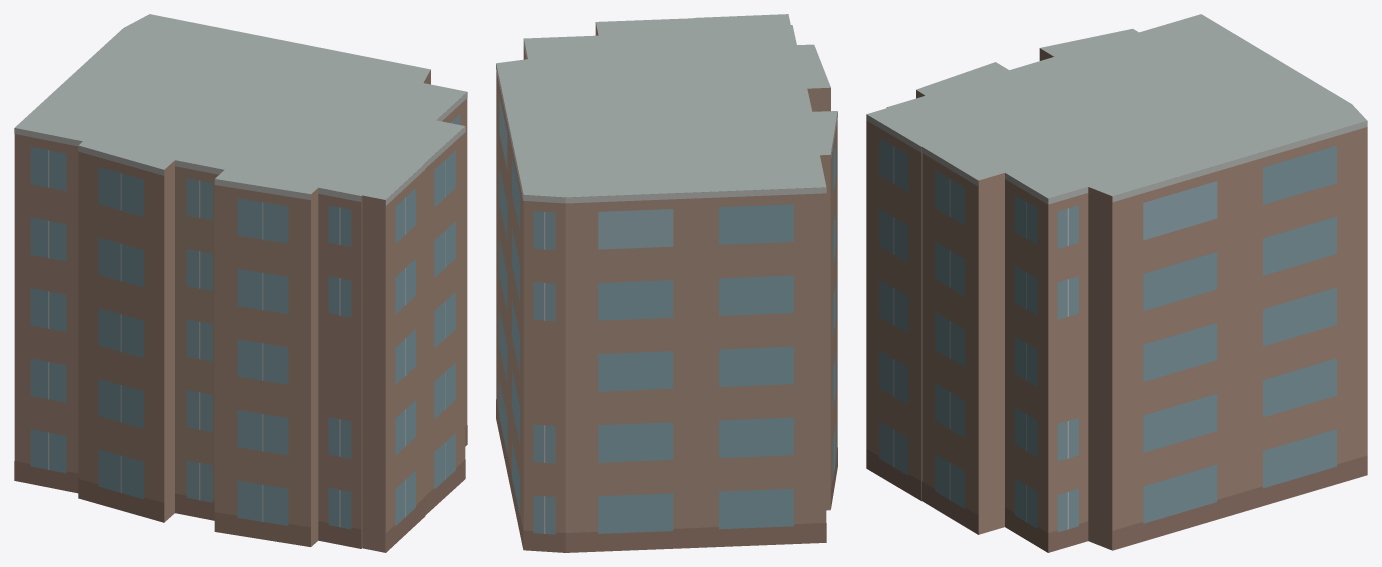
Rendered from survey-upis-32620176.glb.
3 views of the same model, side by side, from view 1: azimuth 30°, elevation 25°; view 2: azimuth 150°, elevation 25°; view 3: azimuth 270°, elevation 25° (orthographic).
Visible parts, largest first — view 1: survey-upis-32620176.tmp; view 2: survey-upis-32620176.tmp; view 3: survey-upis-32620176.tmp.
Part boxes in pixels (x1,y1,x2,y2): survey-upis-32620176.tmp: [14, 14, 467, 552]; survey-upis-32620176.tmp: [496, 14, 837, 552]; survey-upis-32620176.tmp: [866, 14, 1367, 552].
Bounding box in the file's own units: 15.99 × 14.3 × 18.34.
